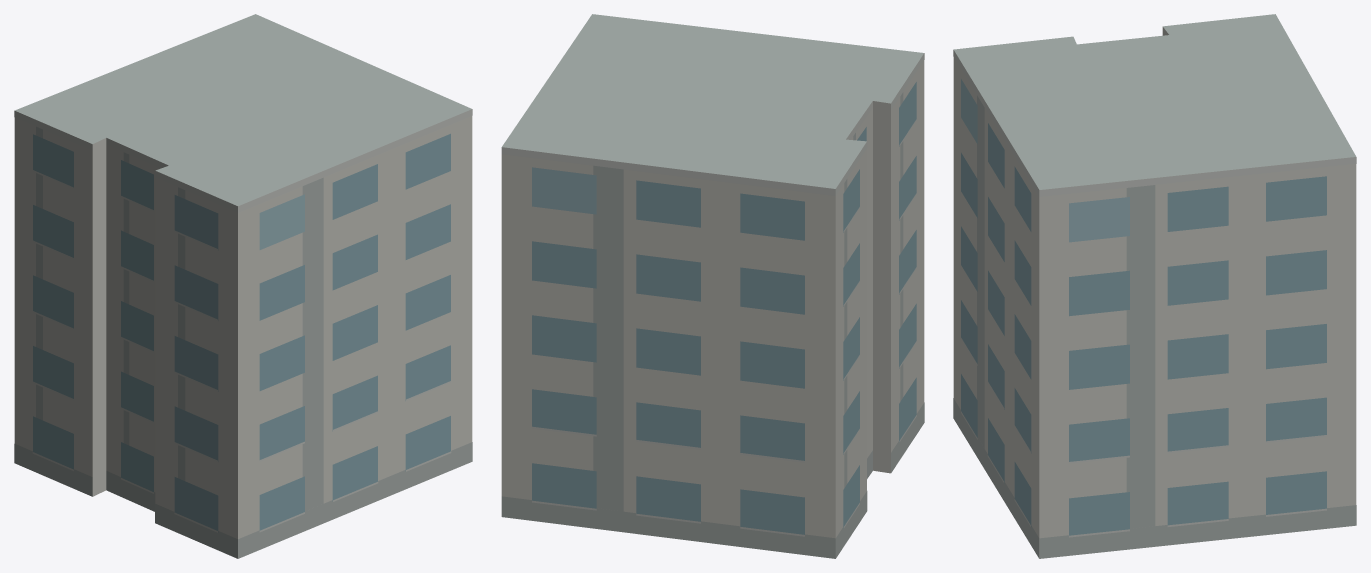
Rendered from survey-upis-32799663.glb.
3 renders of one model, left to right at view 1: azimuth 30°, elevation 25°; view 2: azimuth 150°, elevation 25°; view 3: azimuth 270°, elevation 25°, orthographic. The views are drawn at different scales.
Parts seen in each view (by area): view 1: survey-upis-32799663.tmp; view 2: survey-upis-32799663.tmp; view 3: survey-upis-32799663.tmp.
Boxes of the visible parts, x1,y1,x2,y2 form: survey-upis-32799663.tmp: [14, 14, 472, 558]; survey-upis-32799663.tmp: [501, 14, 924, 558]; survey-upis-32799663.tmp: [953, 14, 1356, 558].
Size of the model in its own units: 13.12 by 12.8 by 12.69.
